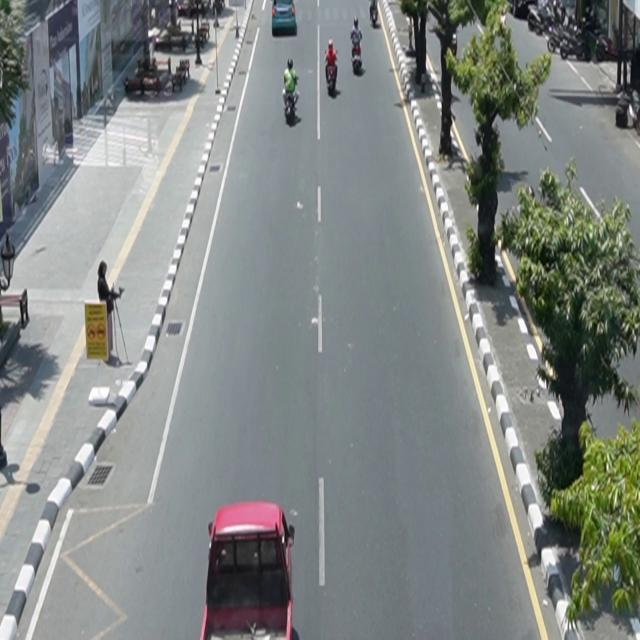car: (201, 501, 296, 640), (272, 1, 297, 36)
